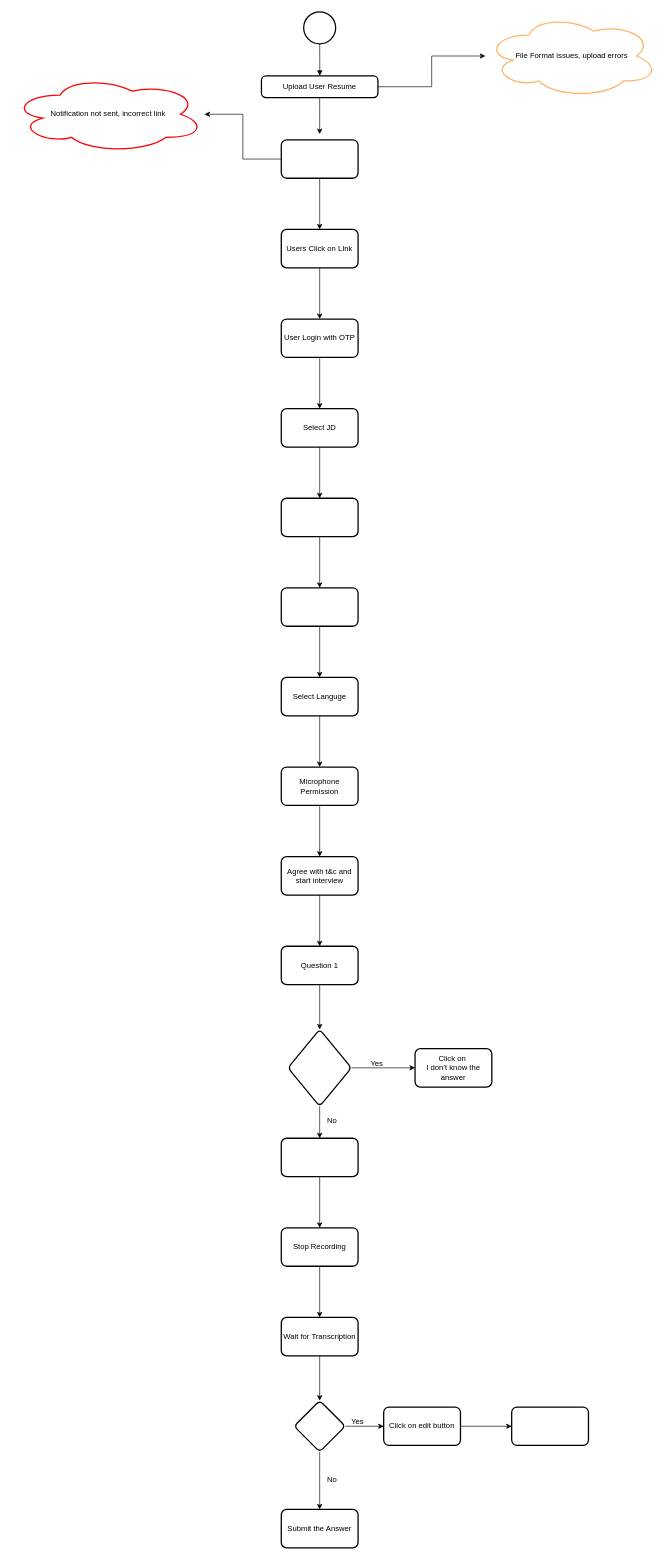
The diagram is 669 pixels wide and 1559 high, and some of its shapes have lost their labels. The shapes that lost their labels are listed below. From the top down, each one's box as (x1, y1, x2, y2) in pixels, then its label:
(303, 11, 336, 44): Start
(280, 139, 358, 179): User Notification
(280, 497, 358, 537): Start Interview
(280, 587, 358, 627): Capture Face
(287, 1028, 352, 1107): Move to next question
(280, 1137, 358, 1177): Start Recording
(293, 1400, 346, 1452): Edit Answer
(511, 1406, 589, 1446): Edit the transcription && Click on Save
